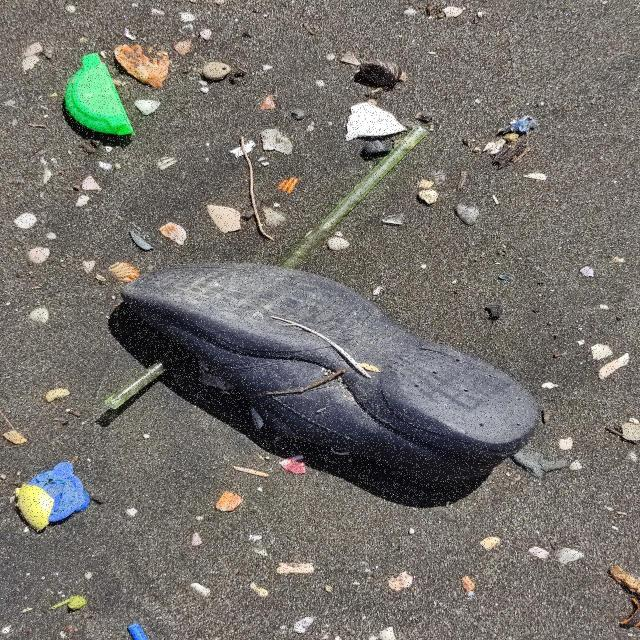rubber_waste: (121, 261, 542, 491)
